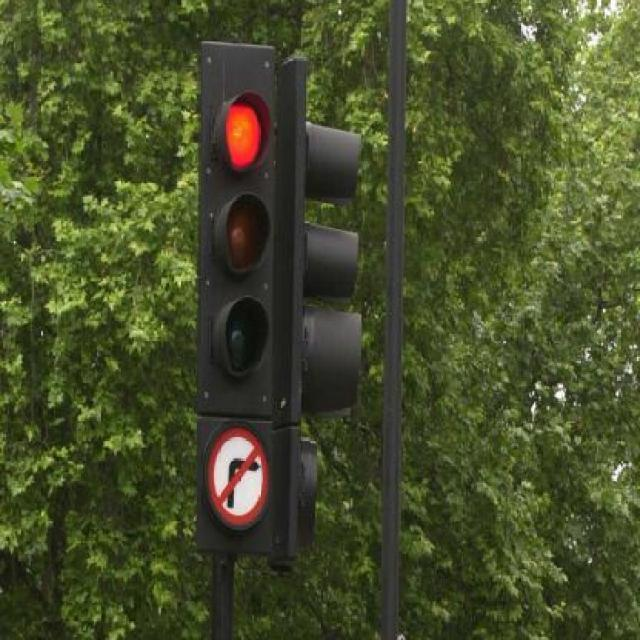red_light: (191, 16, 326, 419)
